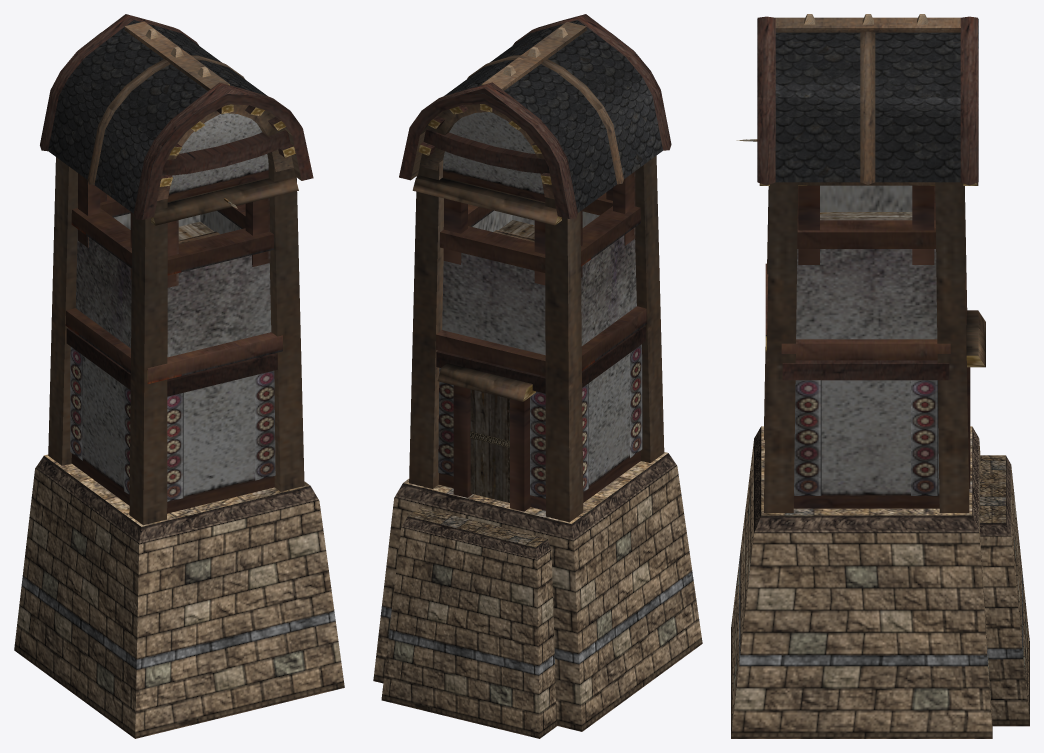
Rendered from s_mauryas_wooden_tower.glb.
The picture shows the model from 3 angles, left to right: view 1: azimuth 30°, elevation 25°; view 2: azimuth 150°, elevation 25°; view 3: azimuth 270°, elevation 25°; orthographic projection. The views are drawn at different scales.
Visible parts, largest first — view 1: s_mauryas_wooden_tower_part2, s_mauryas_wooden_tower_part0; view 2: s_mauryas_wooden_tower_part2, s_mauryas_wooden_tower_part0; view 3: s_mauryas_wooden_tower_part2, s_mauryas_wooden_tower_part0.
Part boxes in pixels (left/top/right/bottom): s_mauryas_wooden_tower_part2: left=40, top=14, right=313, bottom=525; s_mauryas_wooden_tower_part0: left=14, top=347, right=344, bottom=738; s_mauryas_wooden_tower_part2: left=399, top=14, right=671, bottom=522; s_mauryas_wooden_tower_part0: left=373, top=344, right=702, bottom=738; s_mauryas_wooden_tower_part2: left=757, top=14, right=985, bottom=512; s_mauryas_wooden_tower_part0: left=731, top=380, right=1029, bottom=738.
Bounding box in the file's own units: 1.75 × 4.94 × 2.
Materials: 3 (3 with a texture image).
